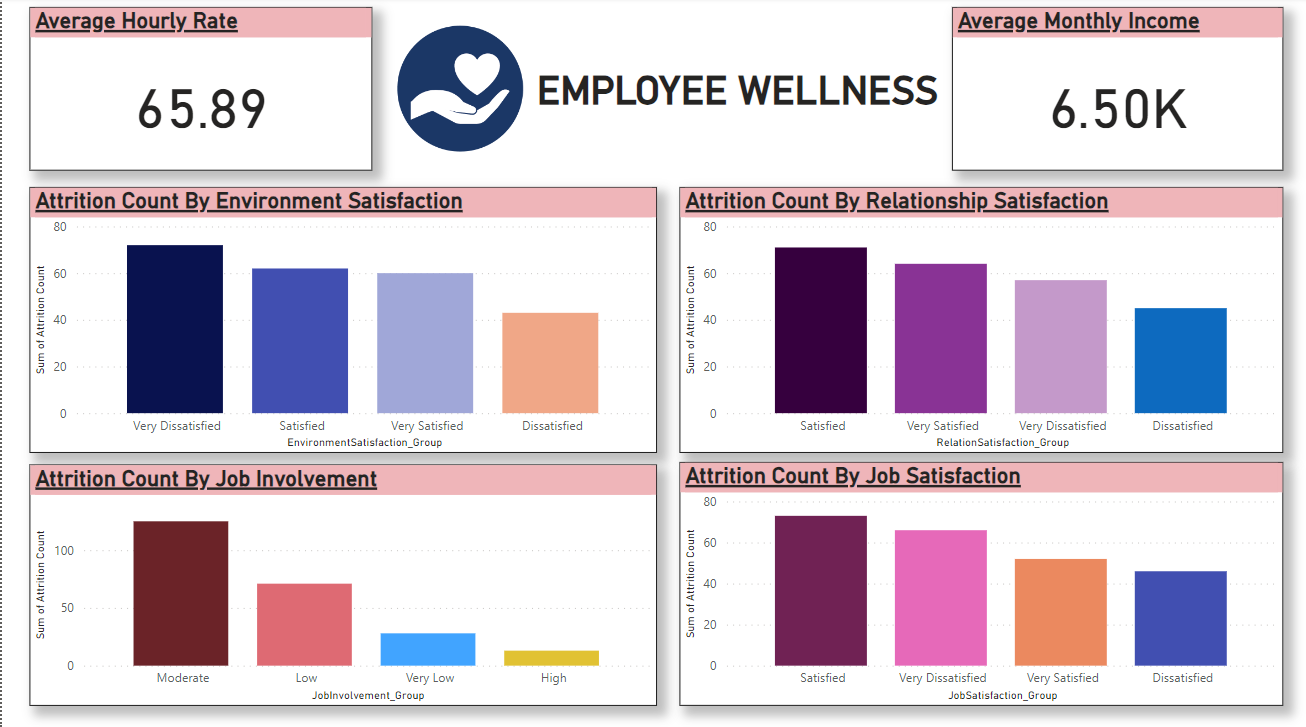

Layout of this report page (visuals, bound fields, positions):
{"tool":"powerbi","page":{"name":"Employee Wellness","canvas":[1280,720],"ordinal":4},"visuals":[{"type":"image","box":[377.7,23.2,140.6,133.2],"z":0},{"type":"textbox","box":[518.3,63.6,542.8,581.9],"z":1000},{"type":"card","title":"Average Hourly Rate","fields":{"Values":["Avg(HR-Employee-Attrition.HourlyRate)"]},"box":[26.9,9.8,334.9,160.1],"z":2000},{"type":"card","title":"Average Monthly Income","fields":{"Values":["Avg(HR-Employee-Attrition.MonthlyIncome)"]},"box":[929,9.8,323.9,160.1],"z":3000},{"type":"clusteredColumnChart","title":"Attrition Count By Environment Satisfaction","fields":{"Y":["Sum(HR-Employee-Attrition.Attrition Count)"],"Category":["HR-Employee-Attrition.EnvironmentSatisfaction_Group"]},"box":[26.9,185.8,613.7,260.4],"z":4000},{"type":"columnChart","title":"Attrition Count By Relationship Satisfaction","fields":{"Category":["HR-Employee-Attrition.RelationSatisfaction_Group"],"Y":["Sum(HR-Employee-Attrition.Attrition Count)"]},"box":[662.5,185.8,590.4,260.4],"z":5000},{"type":"columnChart","title":"Attrition Count By Job Involvement","fields":{"Category":["HR-Employee-Attrition.JobInvolvement_Group"],"Y":["Sum(HR-Employee-Attrition.Attrition Count)"]},"box":[26.9,457.2,613.7,235.9],"z":6000},{"type":"columnChart","title":"Attrition Count By Job Satisfaction","fields":{"Category":["HR-Employee-Attrition.JobSatisfaction_Group"],"Y":["Sum(HR-Employee-Attrition.Attrition Count)"]},"box":[662.5,454.7,590.4,238.4],"z":7000}]}

Visuals, with their boxes in screenshot pixels (x1, y1, x2, y2), scaled from the page's 1280x720 canvas onto the 1306x727 screenshot:
image: [x1=385, y1=23, x2=529, y2=158]
textbox: [x1=529, y1=64, x2=1083, y2=652]
"Average Hourly Rate" card: [x1=27, y1=10, x2=369, y2=172]
"Average Monthly Income" card: [x1=948, y1=10, x2=1278, y2=172]
"Attrition Count By Environment Satisfaction" clusteredColumnChart: [x1=27, y1=188, x2=654, y2=451]
"Attrition Count By Relationship Satisfaction" columnChart: [x1=676, y1=188, x2=1278, y2=451]
"Attrition Count By Job Involvement" columnChart: [x1=27, y1=462, x2=654, y2=700]
"Attrition Count By Job Satisfaction" columnChart: [x1=676, y1=459, x2=1278, y2=700]
